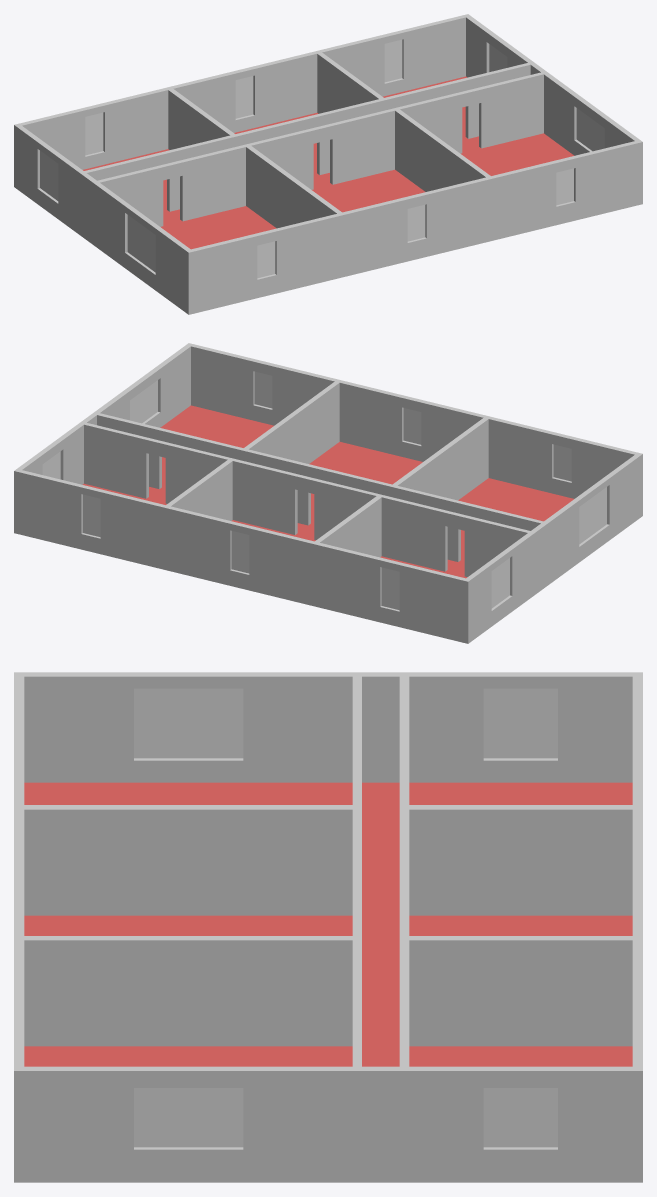
Rendered from office final 5.fbx.
3 renders of one model, top to bottom at view 1: azimuth 30°, elevation 25°; view 2: azimuth 150°, elevation 25°; view 3: azimuth 270°, elevation 25°, orthographic. The views are drawn at different scales.
Parts seen in each view (by area): view 1: Cube.002, Cube.001, Cube; view 2: Cube.002, Cube.001, Cube; view 3: Cube.002, Cube, Cube.001.
Boxes of the visible parts, bbox=[...] form: Cube.002: bbox=[84, 16, 642, 304]; Cube.001: bbox=[14, 14, 470, 305]; Cube: bbox=[14, 70, 642, 314]; Cube.002: bbox=[17, 343, 637, 572]; Cube.001: bbox=[14, 452, 642, 634]; Cube: bbox=[14, 399, 642, 643]; Cube.002: bbox=[14, 676, 632, 1166]; Cube: bbox=[14, 772, 642, 1182]; Cube.001: bbox=[14, 672, 642, 1166].
Size of the model in its own units: 9000 by 1177 by 6000.
